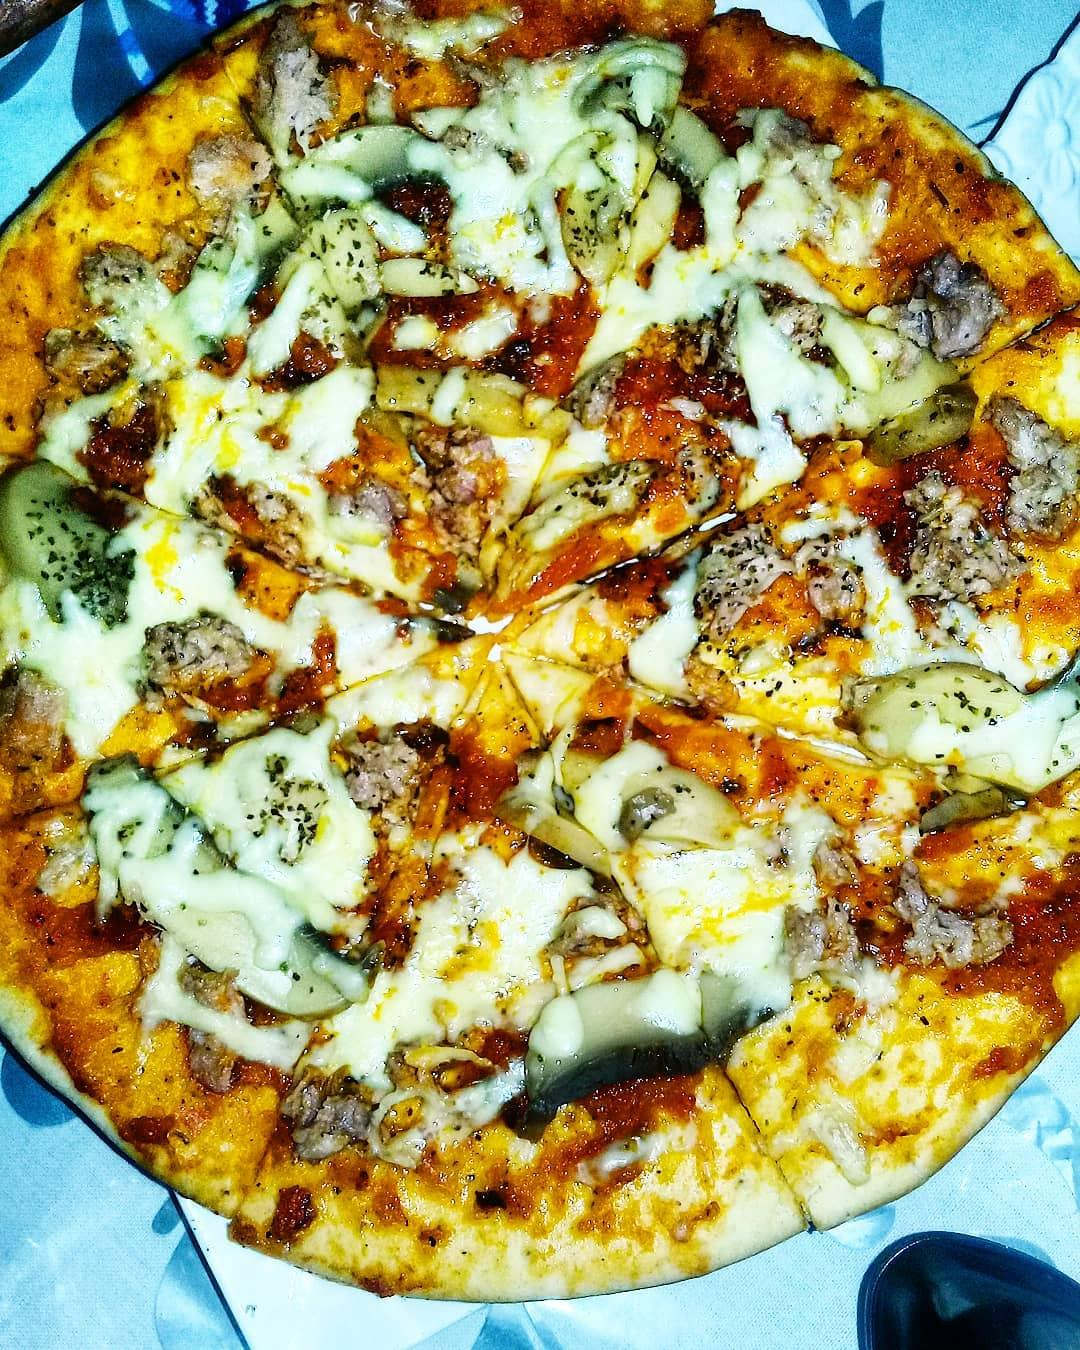Broccoli: (214, 187, 395, 359), (1, 461, 107, 618), (548, 94, 633, 274)
Cheese: (187, 731, 400, 914), (568, 741, 753, 921), (884, 624, 1056, 797), (660, 144, 835, 303), (747, 291, 858, 426), (447, 861, 569, 983), (461, 138, 576, 248), (148, 504, 248, 628)
Pizza: (0, 21, 1080, 1297)
